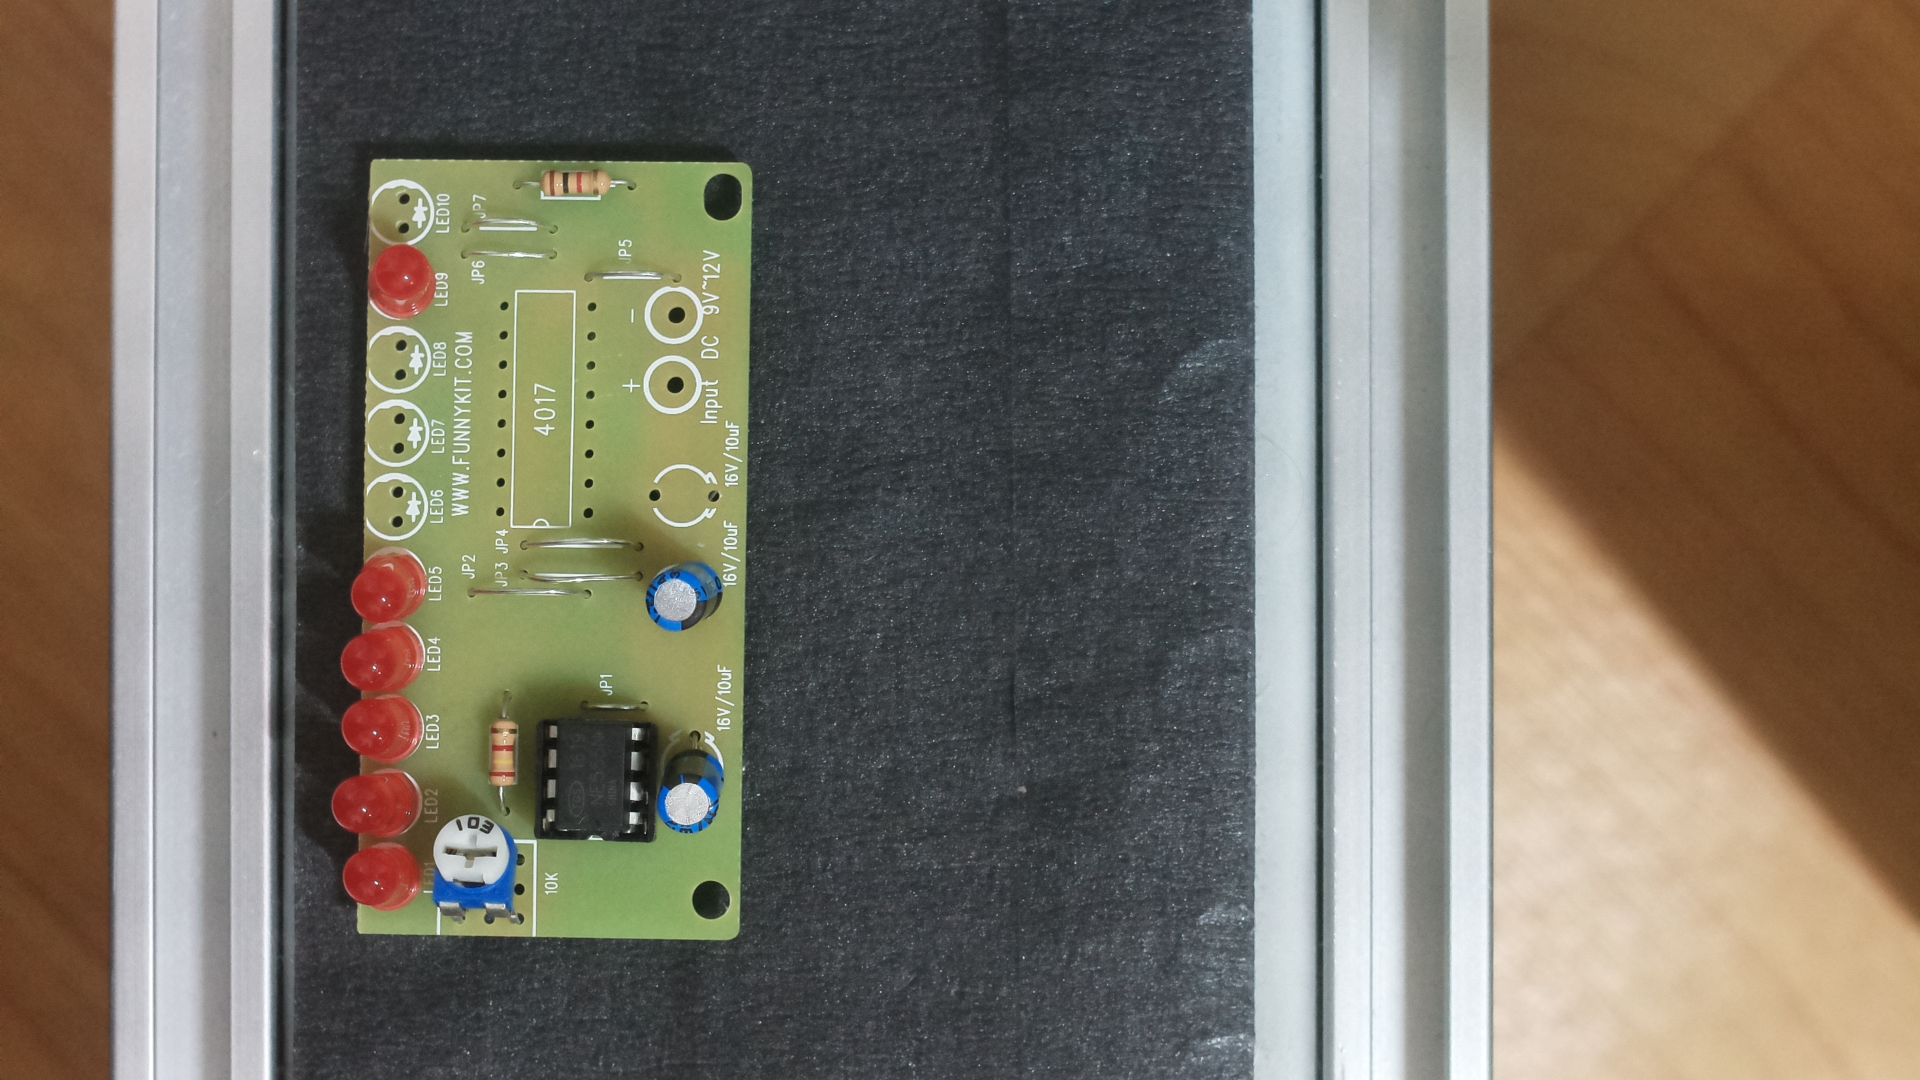B_Missing_part: (323, 109, 765, 945)
